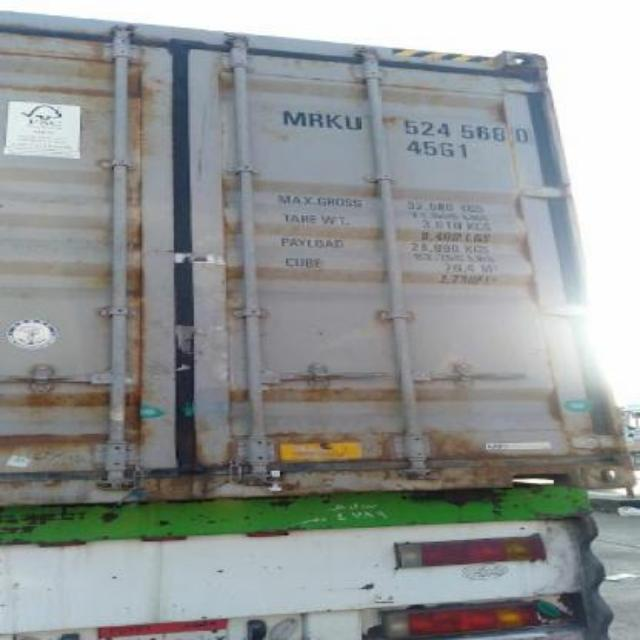0: (514, 127, 530, 143)
2: (418, 119, 436, 137)
4: (438, 120, 454, 138)
5: (400, 120, 420, 136), (456, 124, 474, 140)
6: (472, 124, 492, 140)
8: (490, 127, 510, 143)
K: (324, 114, 344, 130)
M: (278, 109, 310, 127)
R: (308, 112, 326, 128)
U: (340, 113, 364, 131)
